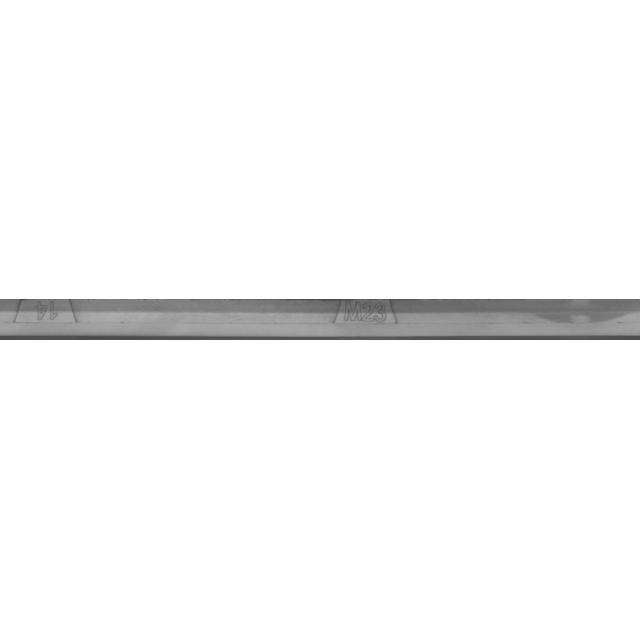mohao: (266, 270, 466, 370)
xuehao: (0, 270, 143, 370)
